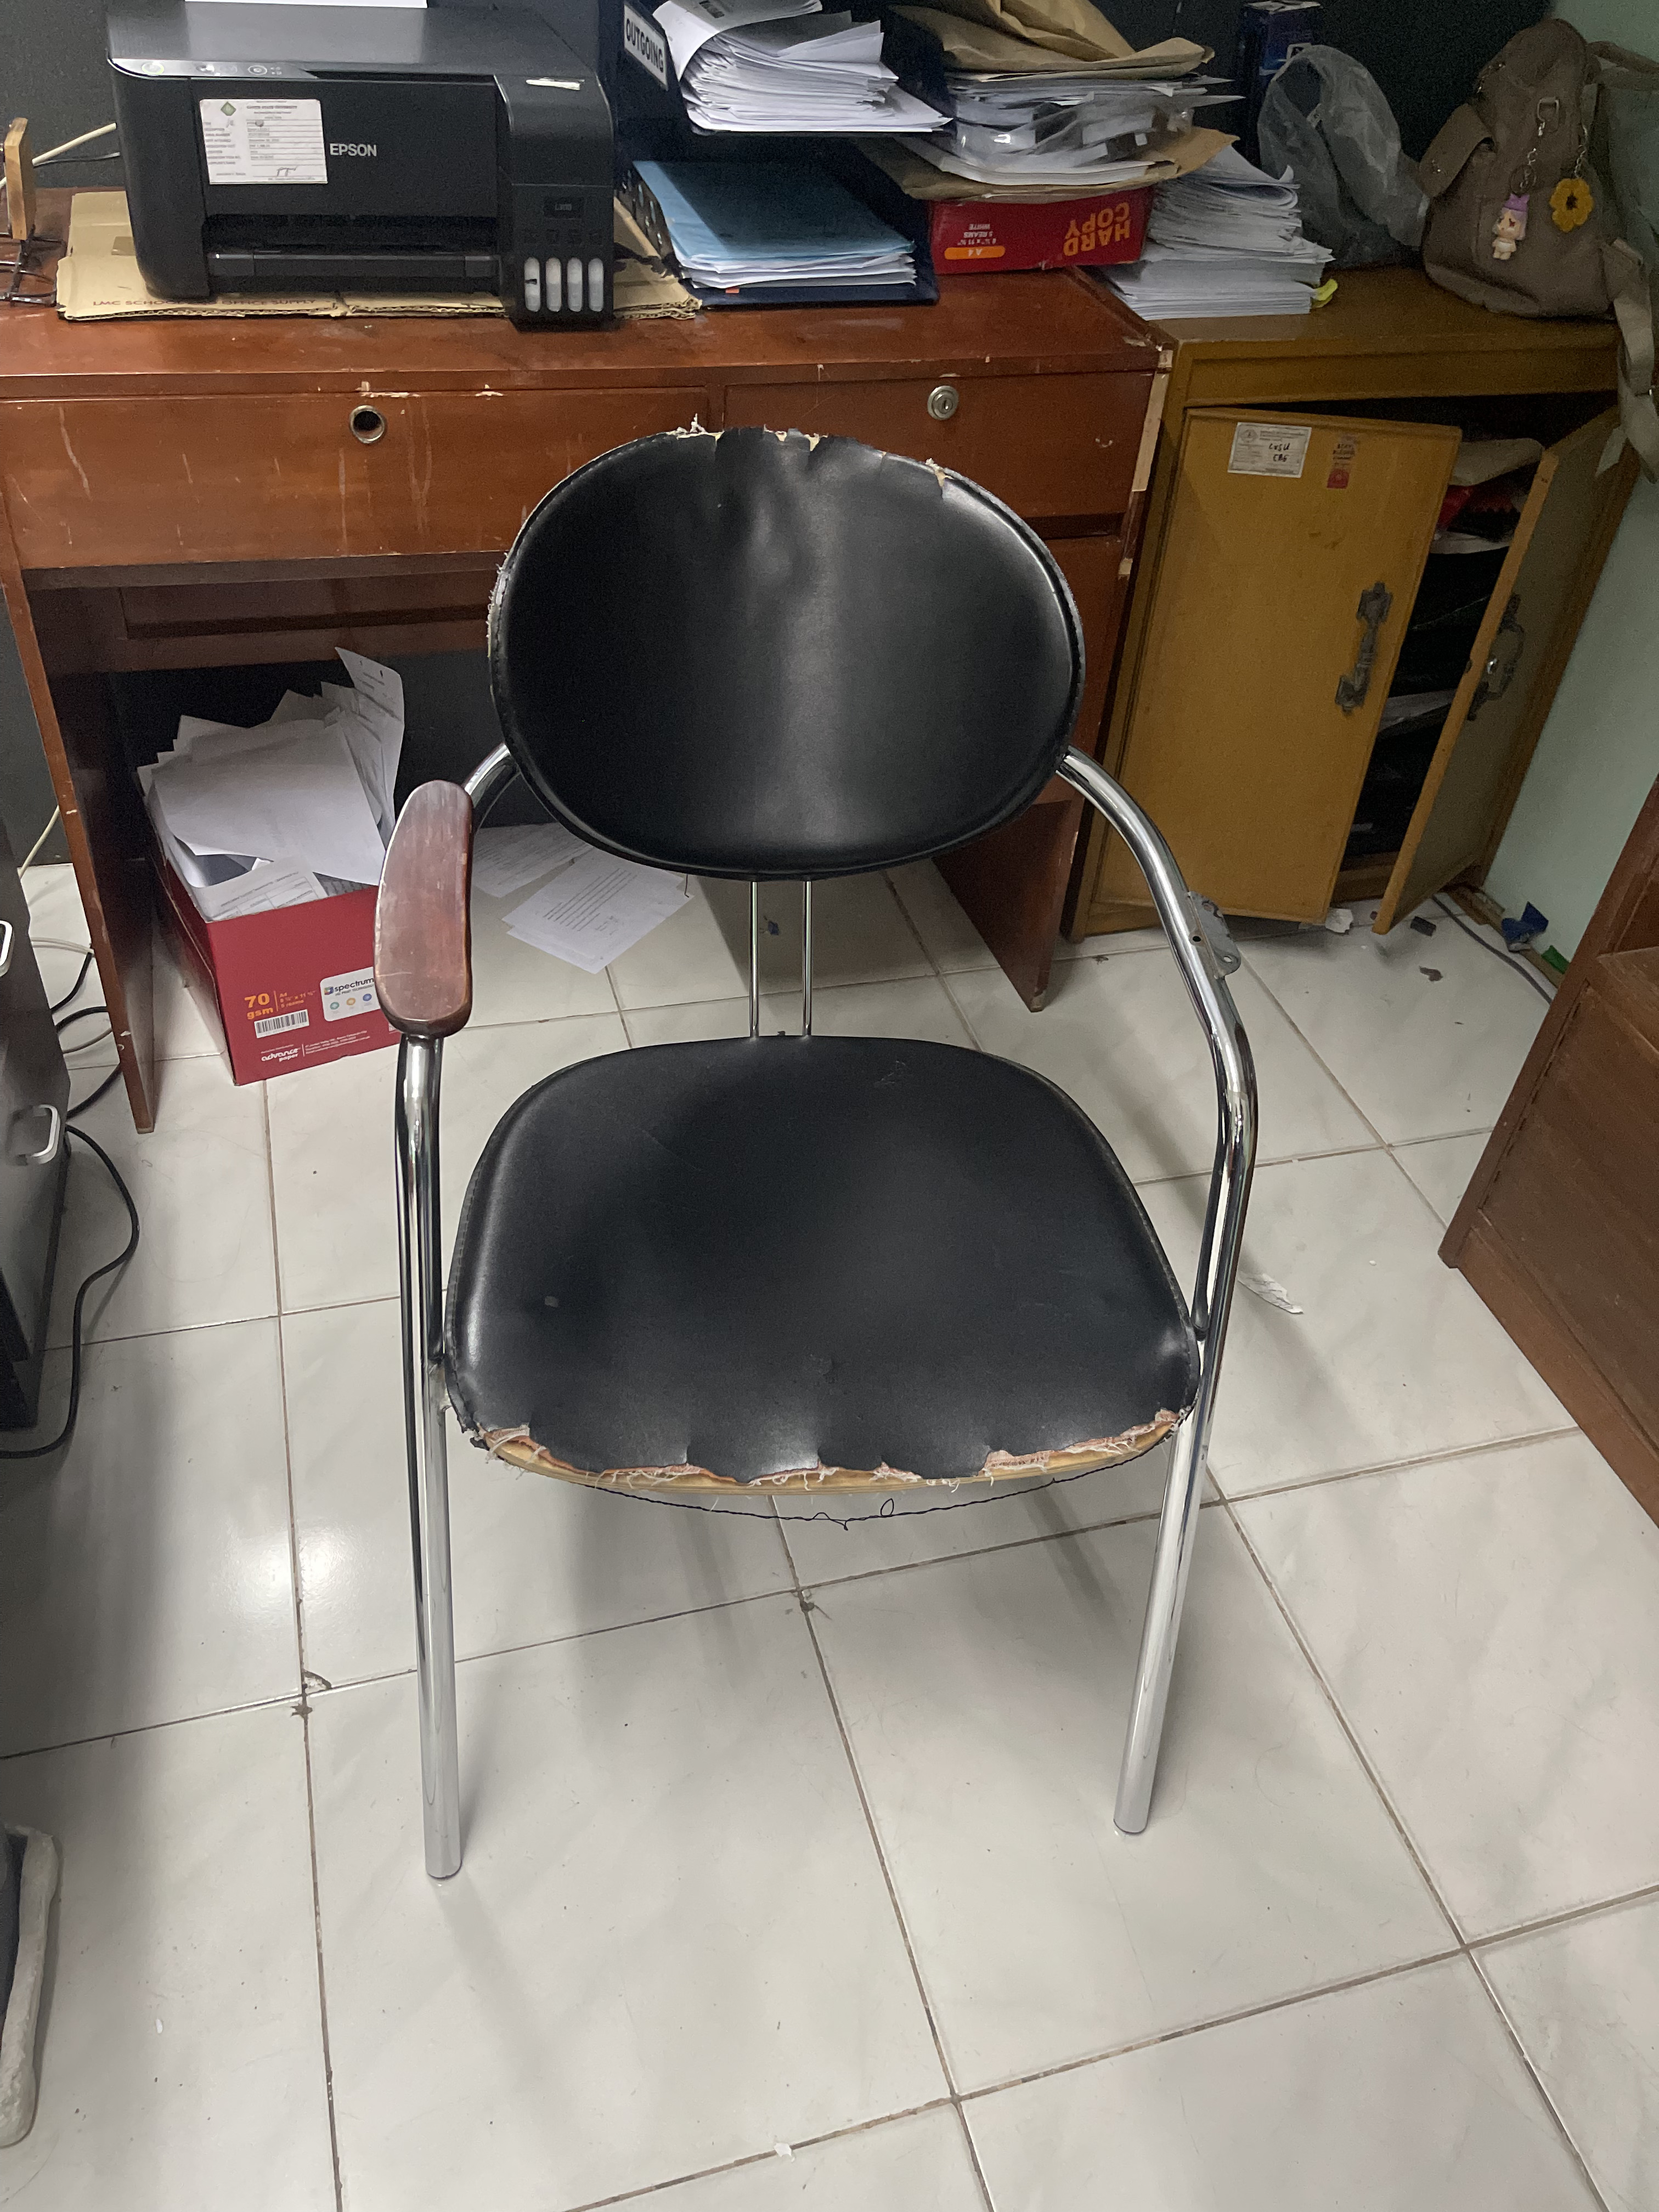chair1: (359, 423, 1270, 1874)
